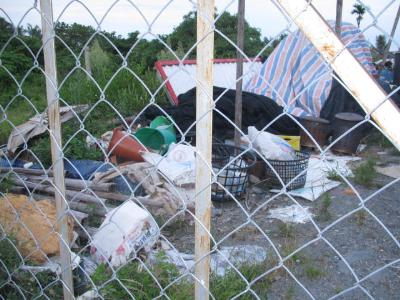bucket: (134, 127, 176, 153)
plastic_bag: (244, 19, 376, 120), (245, 124, 300, 162)
